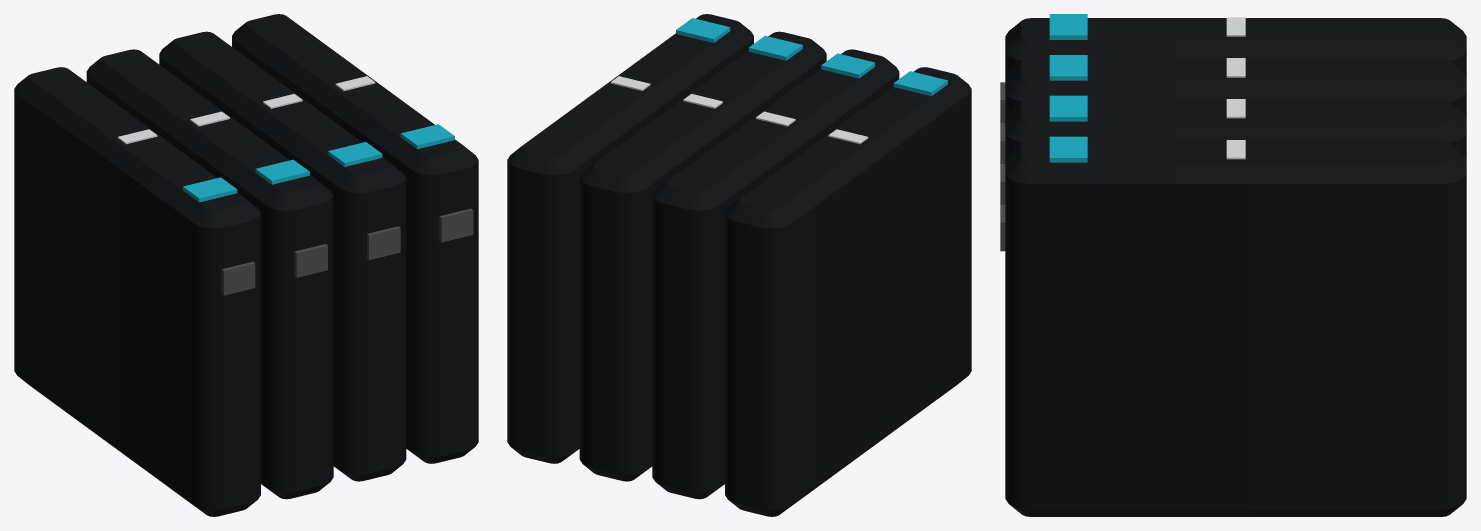
The model's file is mcc1_memory.obj.
3 views of the same model, side by side, from view 1: azimuth 30°, elevation 25°; view 2: azimuth 150°, elevation 25°; view 3: azimuth 270°, elevation 25° (orthographic). The views are drawn at different scales.
Visible parts, largest first — view 1: mcc1_memory; view 2: mcc1_memory; view 3: mcc1_memory.
Boxes of the visible parts, x1,y1,x2,y2 form: mcc1_memory: [14, 14, 478, 516]; mcc1_memory: [507, 14, 971, 516]; mcc1_memory: [1000, 14, 1466, 516].
Bounding box in the file's own units: 0.5925 × 0.626 × 0.738.
